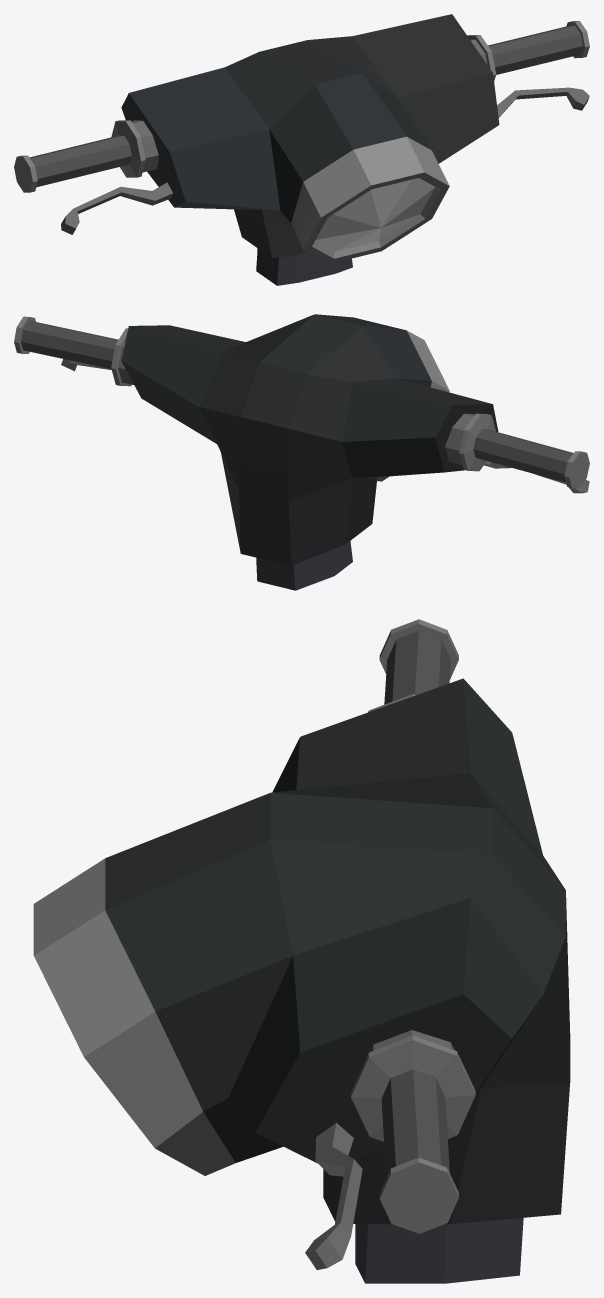
File: SM_Veh_Moped_Handles_01.obj
3 renders of one model, top to bottom at view 1: azimuth 30°, elevation 25°; view 2: azimuth 150°, elevation 25°; view 3: azimuth 270°, elevation 25°, orthographic. The views are drawn at different scales.
Parts seen in each view (by area): view 1: SM_Veh_Moped_Handles_01_0; view 2: SM_Veh_Moped_Handles_01_0; view 3: SM_Veh_Moped_Handles_01_0.
Boxes of the visible parts, x1,y1,x2,y2 form: SM_Veh_Moped_Handles_01_0: (14,14,589,285); SM_Veh_Moped_Handles_01_0: (14,314,589,590); SM_Veh_Moped_Handles_01_0: (33,619,570,1283).
Bounding box in the file's own units: 0.76 × 0.2872 × 0.3168.
1 material, 1 textured.
